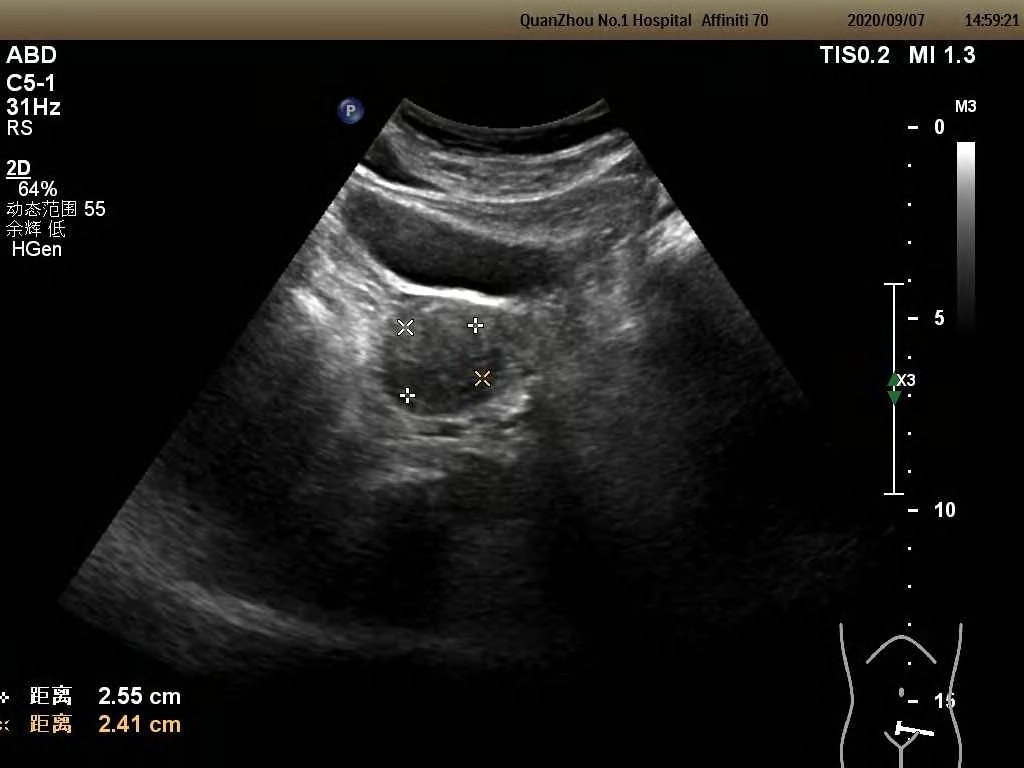肌瘤: (394, 309, 487, 412)
